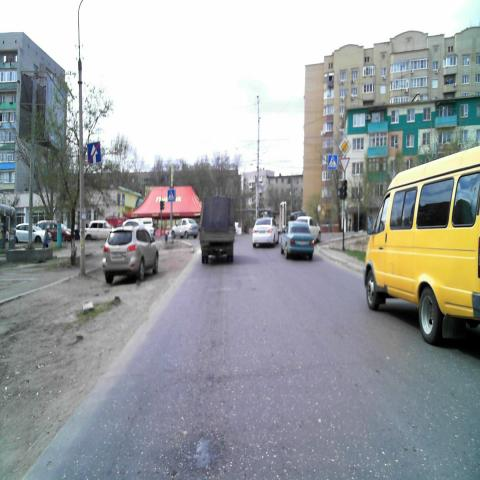2_2: (339, 137, 351, 157)
5_6: (87, 141, 101, 165)
